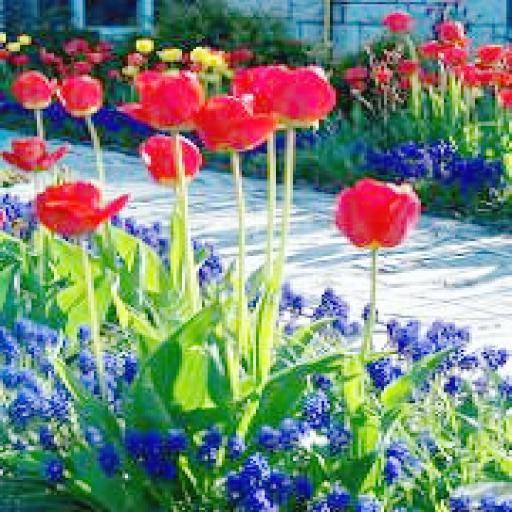tulip: (333, 177, 421, 254), (34, 177, 128, 239), (188, 90, 278, 149), (253, 64, 336, 124), (122, 68, 205, 128), (134, 132, 202, 184), (3, 134, 68, 177), (54, 75, 105, 113), (9, 70, 51, 111)
